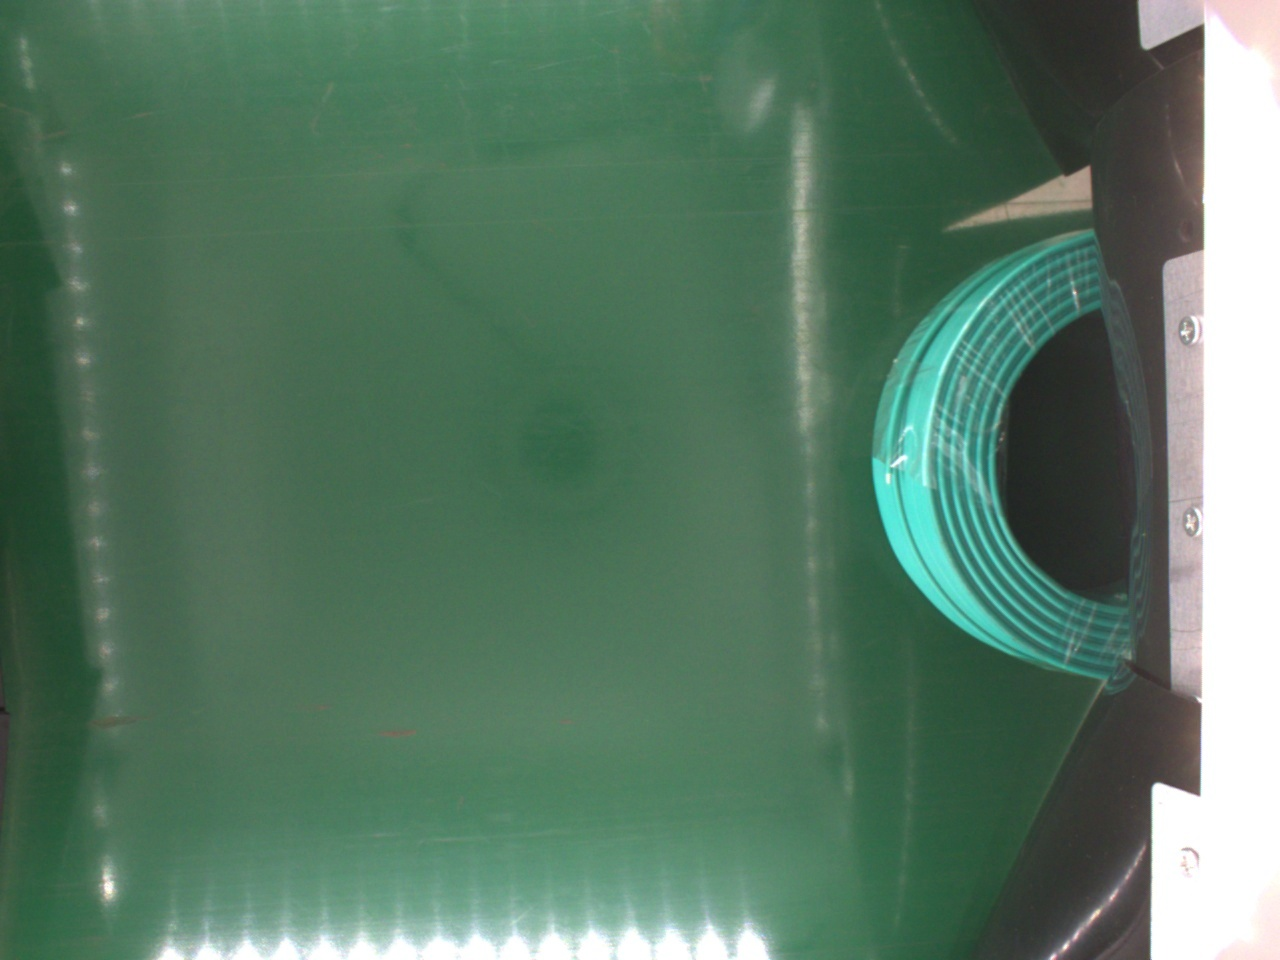green: (869, 226, 1135, 682)
